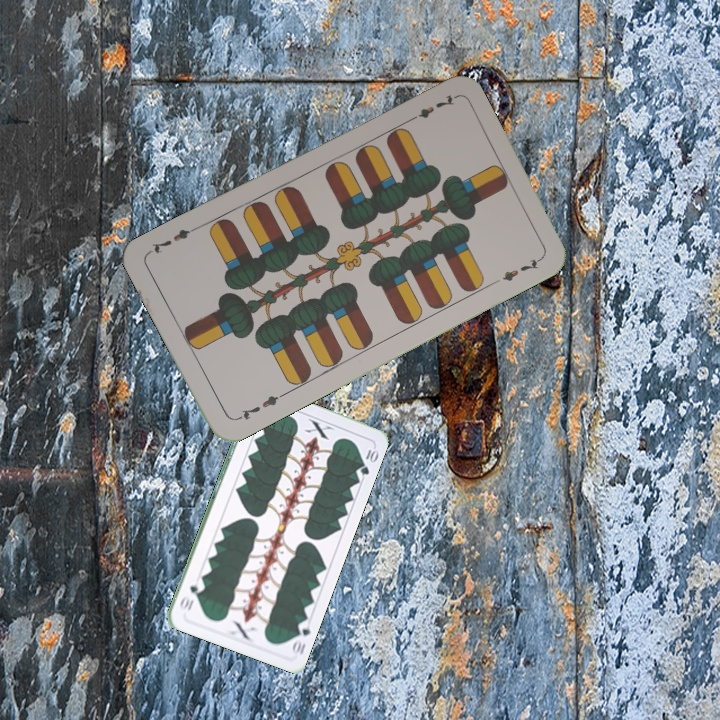E7: (403, 90, 458, 125), (232, 389, 287, 423)
G10: (288, 616, 313, 658)
